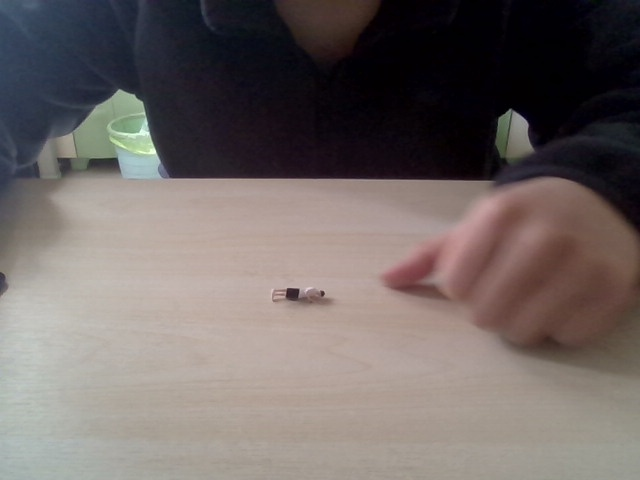fall: (267, 280, 330, 307)
